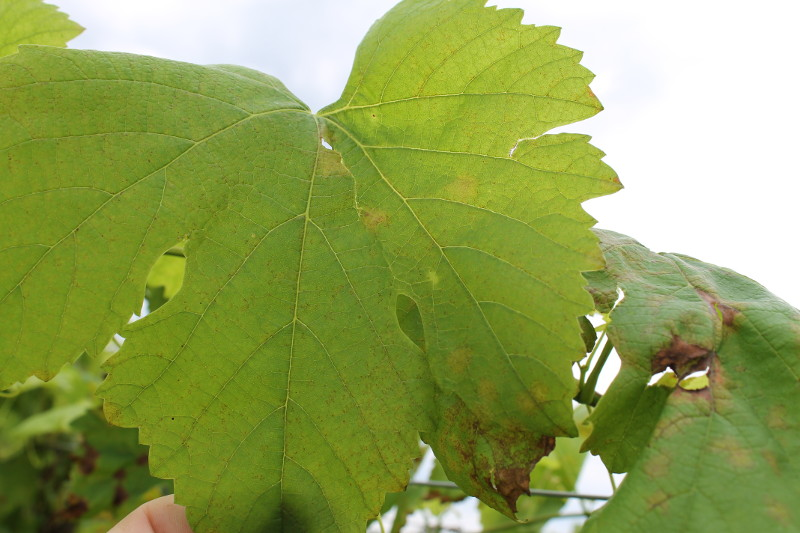downy: (451, 358, 548, 455), (305, 133, 400, 228), (438, 154, 494, 210), (475, 460, 524, 509)
